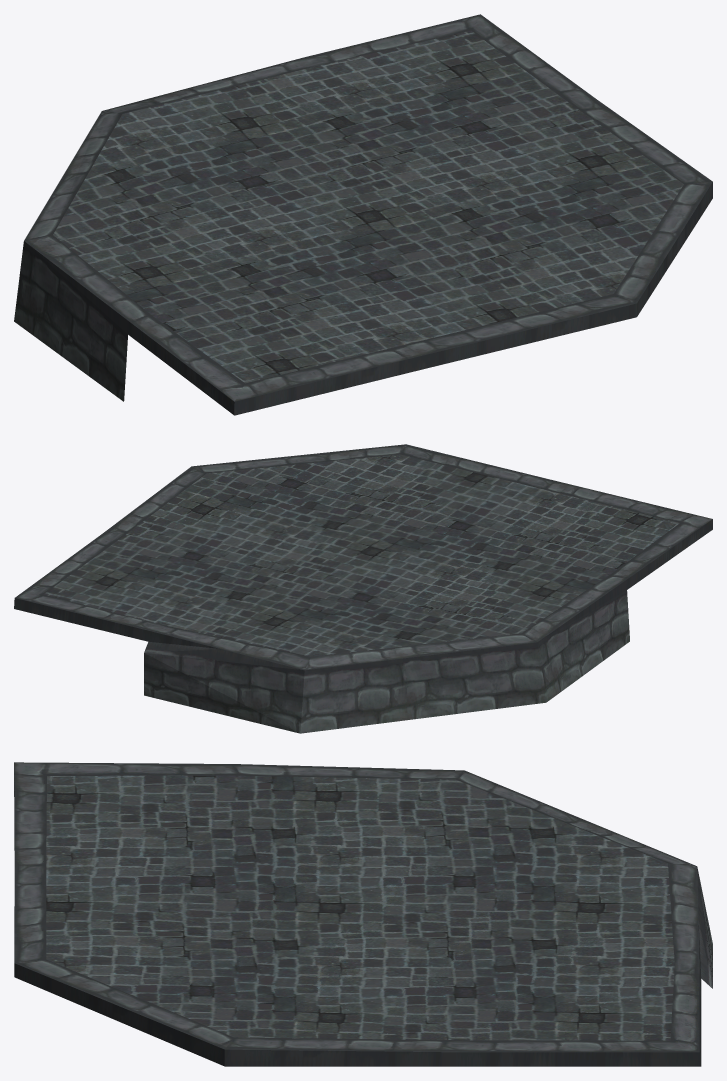
File: terrain_towncenterstone03.fbx
3 views of the same model, one above another, from view 1: azimuth 30°, elevation 25°; view 2: azimuth 150°, elevation 25°; view 3: azimuth 270°, elevation 25° (orthographic). The views are drawn at different scales.
Parts seen in each view (by area): view 1: obj1.058; view 2: obj1.058; view 3: obj1.058.
Boxes of the visible parts, x1,y1,x2,y2 form: obj1.058: (14, 14, 712, 415); obj1.058: (14, 444, 712, 733); obj1.058: (14, 762, 712, 1066).
Bounding box in the file's own units: 12.32 × 1.68 × 12.54.
